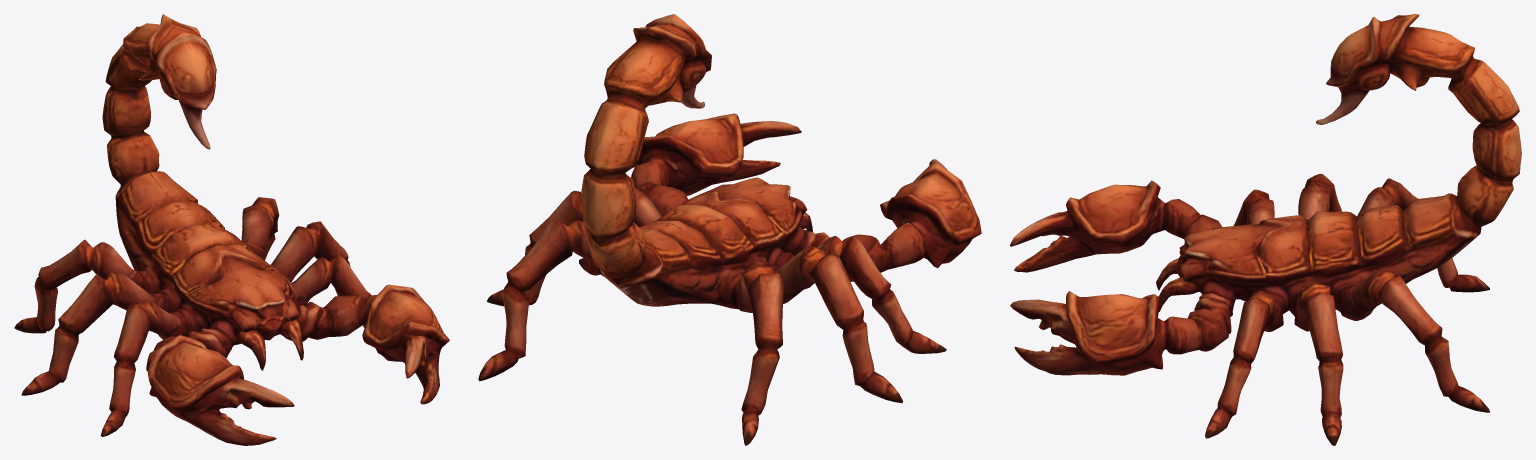
The model's file is scorpion.glb.
3 renders of one model, left to right at view 1: azimuth 30°, elevation 25°; view 2: azimuth 150°, elevation 25°; view 3: azimuth 270°, elevation 25°, orthographic. The views are drawn at different scales.
Visible parts, largest first — view 1: geometry_0; view 2: geometry_0; view 3: geometry_0.
Boxes of the visible parts, <box> form: geometry_0: <box>14,14,449,445</box>; geometry_0: <box>478,14,981,445</box>; geometry_0: <box>1010,14,1521,445</box>.
Bounding box in the file's own units: 0.8861 × 0.738 × 1.
1 material, 1 textured.
